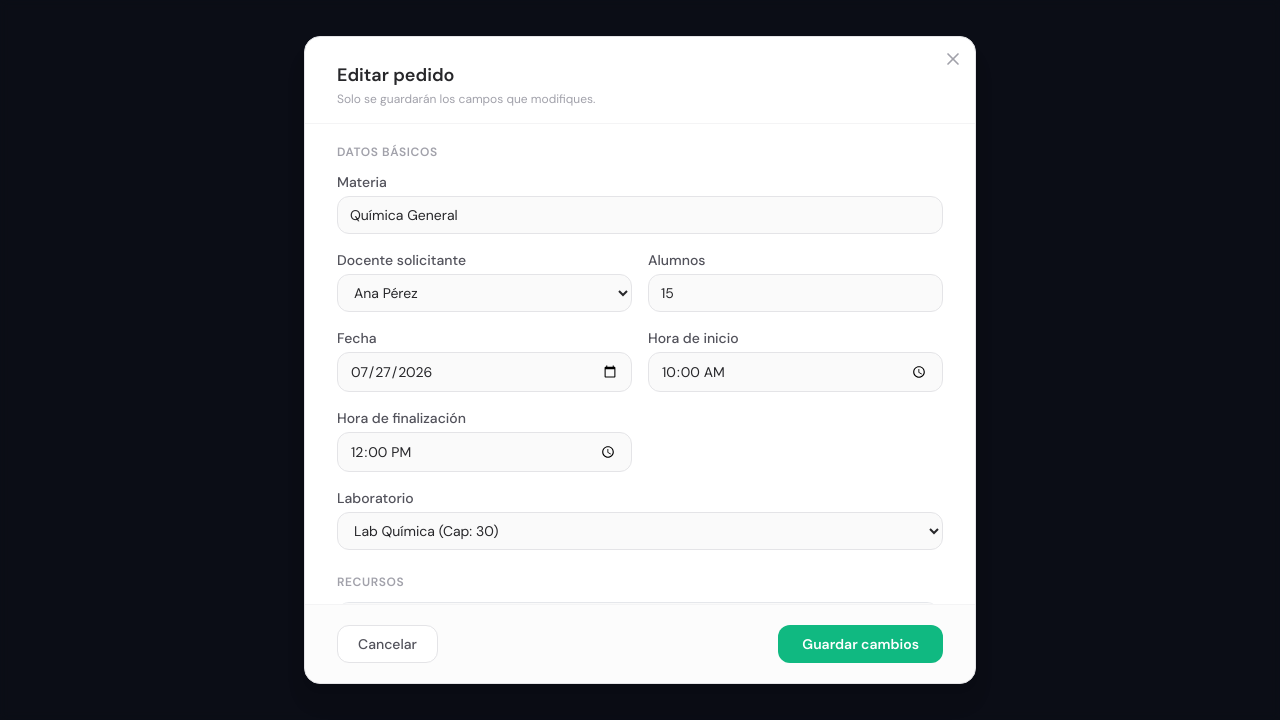
it: EditarPedidoForm Component › muestra los errores inline si se vacían los campos obligatorios
Clear the field showing "Química General". click: coordinates (640, 215)
box: [337,196,943,234]
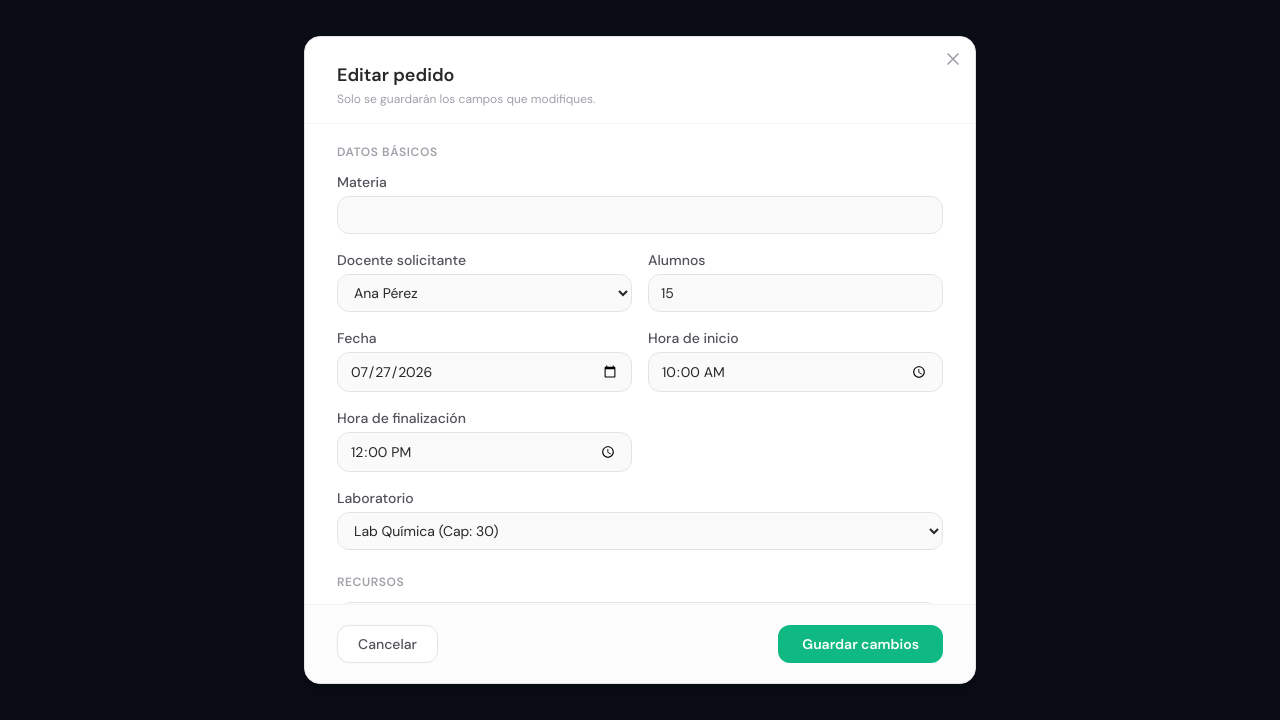
Clear the number field showing "15". click: coordinates (796, 293)
box: [648,274,943,312]
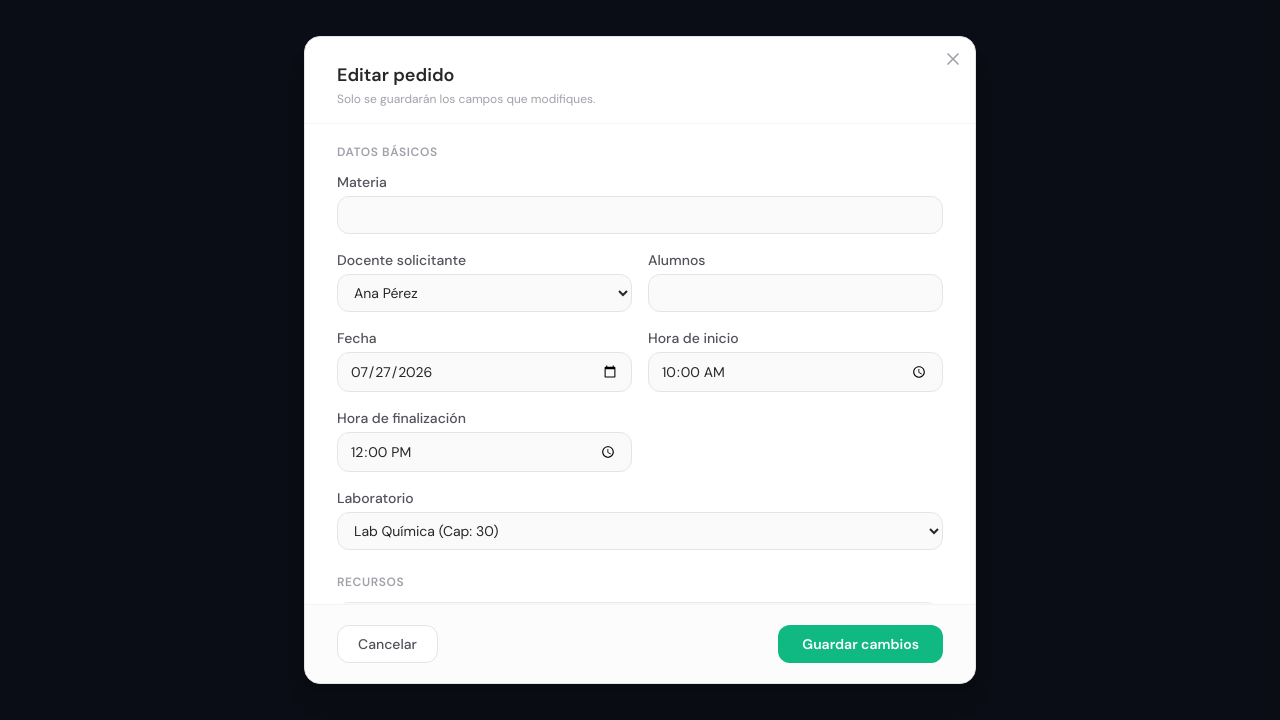
Click the button "Guardar cambios". click: coordinates (861, 644)
box: [778,625,943,663]
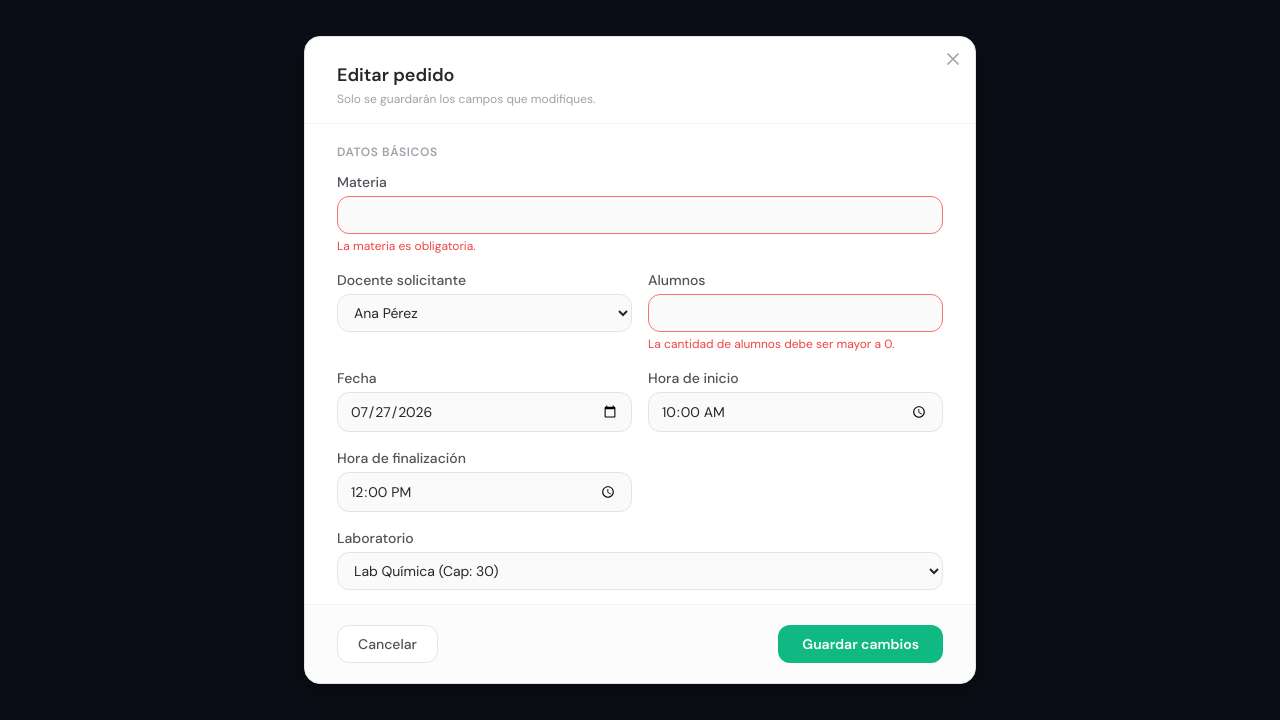
Check: the text "La materia es obligatoria." is shown, box [337,238,476,254]
Check: the text "La cantidad de alumnos debe ser mayor a 0." is shown, box [648,336,894,352]
